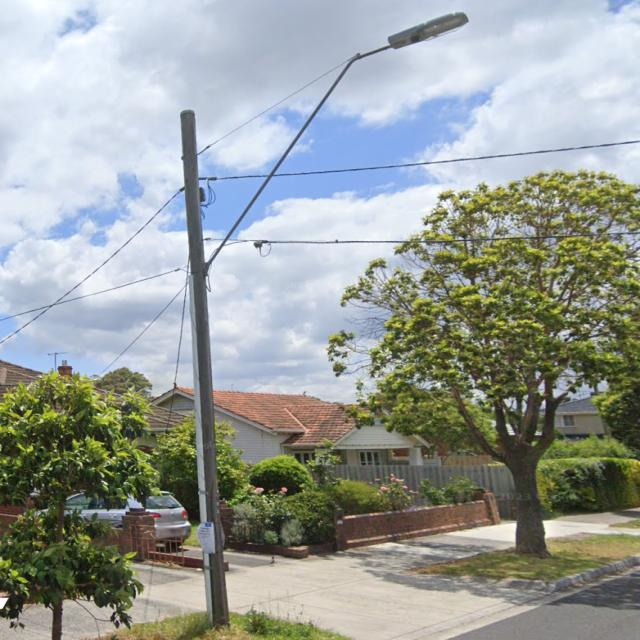streetlight: (198, 9, 470, 280)
timber-pole: (180, 109, 232, 628)
